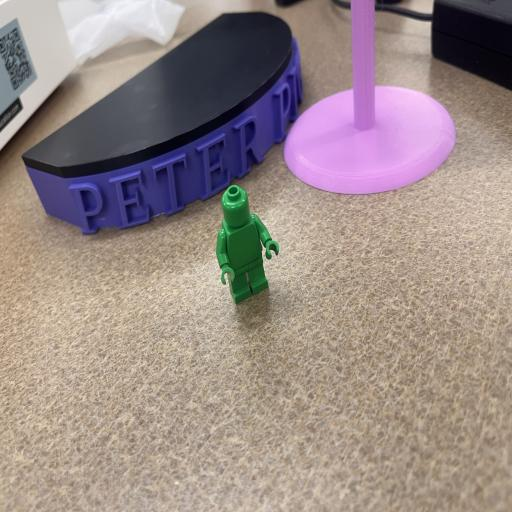Lego-Minifig: (216, 185, 279, 303)
